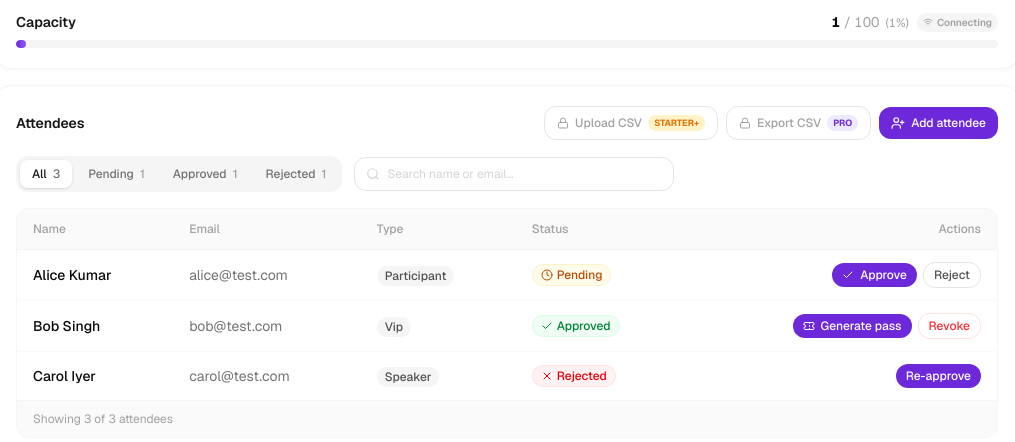
Test: AttendeeTable › filters to approved tab correctly
Click the button "approved1" at (205, 174), box x1=161 y1=160 x2=250 y2=188
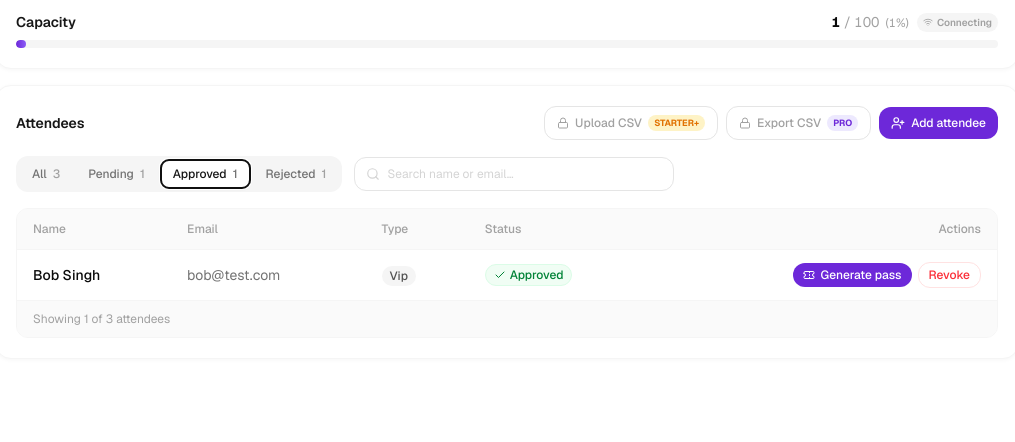
Expected: the text "Bob Singh" is shown, x1=33 y1=266 x2=100 y2=284
Result: the text "Alice Kumar" is gone
